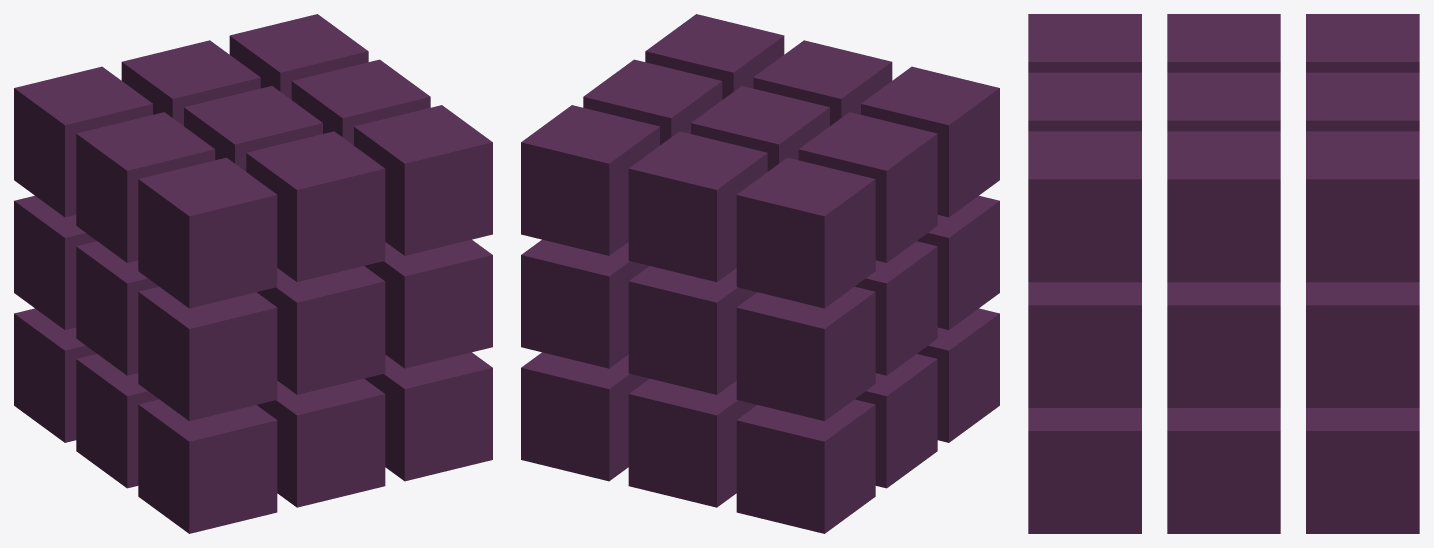
The model's file is rubik-s-cube.obj.
3 renders of one model, left to right at view 1: azimuth 30°, elevation 25°; view 2: azimuth 150°, elevation 25°; view 3: azimuth 270°, elevation 25°, orthographic. The views are drawn at different scales.
Visible parts, largest first — view 1: cubelet-0-2-2, cubelet-0-0-2, cubelet-0-1-2, cubelet-1-2-2, cubelet-2-2-2, cubelet-1-0-2, cubelet-1-1-2, cubelet-2-0-2, cubelet-2-1-2, cubelet-0-2-1, cubelet-0-2-0, cubelet-0-1-1 (+7 smaller); view 2: cubelet-0-2-0, cubelet-0-0-0, cubelet-0-1-0, cubelet-1-2-0, cubelet-2-2-0, cubelet-1-0-0, cubelet-1-1-0, cubelet-2-0-0, cubelet-2-1-0, cubelet-0-2-1, cubelet-0-2-2, cubelet-0-1-1 (+7 smaller); view 3: cubelet-2-2-0, cubelet-2-2-1, cubelet-2-2-2, cubelet-2-0-0, cubelet-2-0-1, cubelet-2-0-2, cubelet-2-1-0, cubelet-2-1-1, cubelet-2-1-2, cubelet-1-2-0, cubelet-1-2-1, cubelet-1-2-2 (+3 smaller).
Boxes of the visible parts, x1,y1,x2,y2 form: cubelet-0-2-2: [138, 157, 277, 308]; cubelet-0-0-2: [138, 399, 277, 533]; cubelet-0-1-2: [138, 286, 277, 420]; cubelet-1-2-2: [246, 131, 385, 282]; cubelet-2-2-2: [354, 105, 492, 255]; cubelet-1-0-2: [257, 378, 385, 507]; cubelet-1-1-2: [257, 266, 385, 394]; cubelet-2-0-2: [364, 352, 492, 481]; cubelet-2-1-2: [364, 239, 492, 368]; cubelet-0-2-1: [76, 112, 215, 262]; cubelet-0-2-0: [14, 66, 152, 217]; cubelet-0-1-1: [76, 241, 158, 375]; cubelet-0-2-0: [736, 157, 875, 308]; cubelet-0-0-0: [736, 399, 875, 533]; cubelet-0-1-0: [736, 286, 875, 420]; cubelet-1-2-0: [628, 131, 767, 282]; cubelet-2-2-0: [521, 105, 659, 255]; cubelet-1-0-0: [628, 378, 756, 507]; cubelet-1-1-0: [628, 266, 756, 394]; cubelet-2-0-0: [521, 352, 649, 481]; cubelet-2-1-0: [521, 239, 649, 368]; cubelet-0-2-1: [798, 112, 937, 262]; cubelet-0-2-2: [861, 66, 999, 217]; cubelet-0-1-1: [855, 241, 937, 375]; cubelet-2-2-0: [1306, 131, 1419, 282]; cubelet-2-2-1: [1167, 131, 1280, 282]; cubelet-2-2-2: [1028, 131, 1141, 282]; cubelet-2-0-0: [1306, 408, 1419, 533]; cubelet-2-0-1: [1167, 408, 1280, 533]; cubelet-2-0-2: [1028, 408, 1141, 533]; cubelet-2-1-0: [1306, 282, 1419, 407]; cubelet-2-1-1: [1167, 282, 1280, 407]; cubelet-2-1-2: [1028, 282, 1141, 407]; cubelet-1-2-0: [1306, 72, 1419, 131]; cubelet-1-2-1: [1167, 72, 1280, 131]; cubelet-1-2-2: [1028, 72, 1141, 131].
Size of the model in its own units: 0.62 by 0.62 by 0.62.
